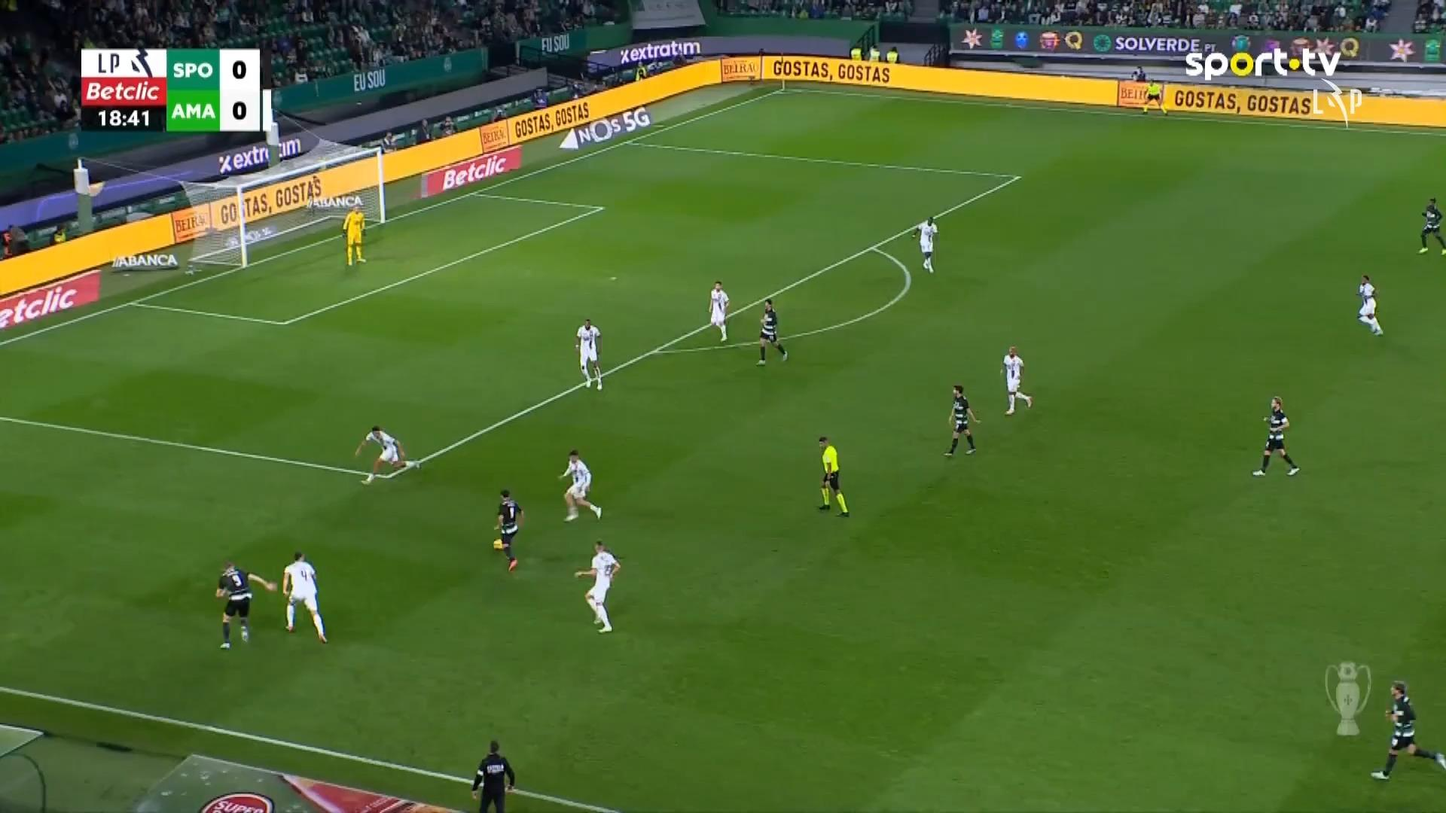ball: (493, 538, 502, 549)
goalkeeper: (341, 202, 367, 266)
player: (1370, 680, 1444, 781), (214, 561, 276, 650), (574, 540, 621, 633), (281, 550, 327, 644), (353, 425, 422, 484), (1251, 396, 1299, 477), (557, 449, 602, 522), (943, 384, 980, 457), (493, 489, 523, 572), (1001, 345, 1033, 416), (755, 298, 787, 366), (575, 318, 603, 390), (1356, 273, 1383, 335), (1417, 196, 1444, 255), (911, 215, 938, 273), (707, 280, 729, 342)
referee: (470, 739, 515, 811), (816, 435, 850, 517), (1141, 81, 1167, 114)
